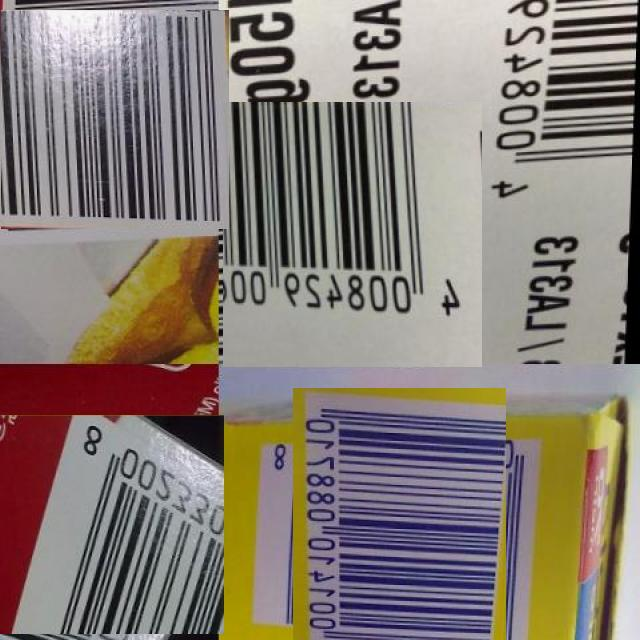Barcode: (221, 103, 483, 366), (274, 407, 526, 640), (0, 5, 225, 234), (0, 412, 222, 636)
